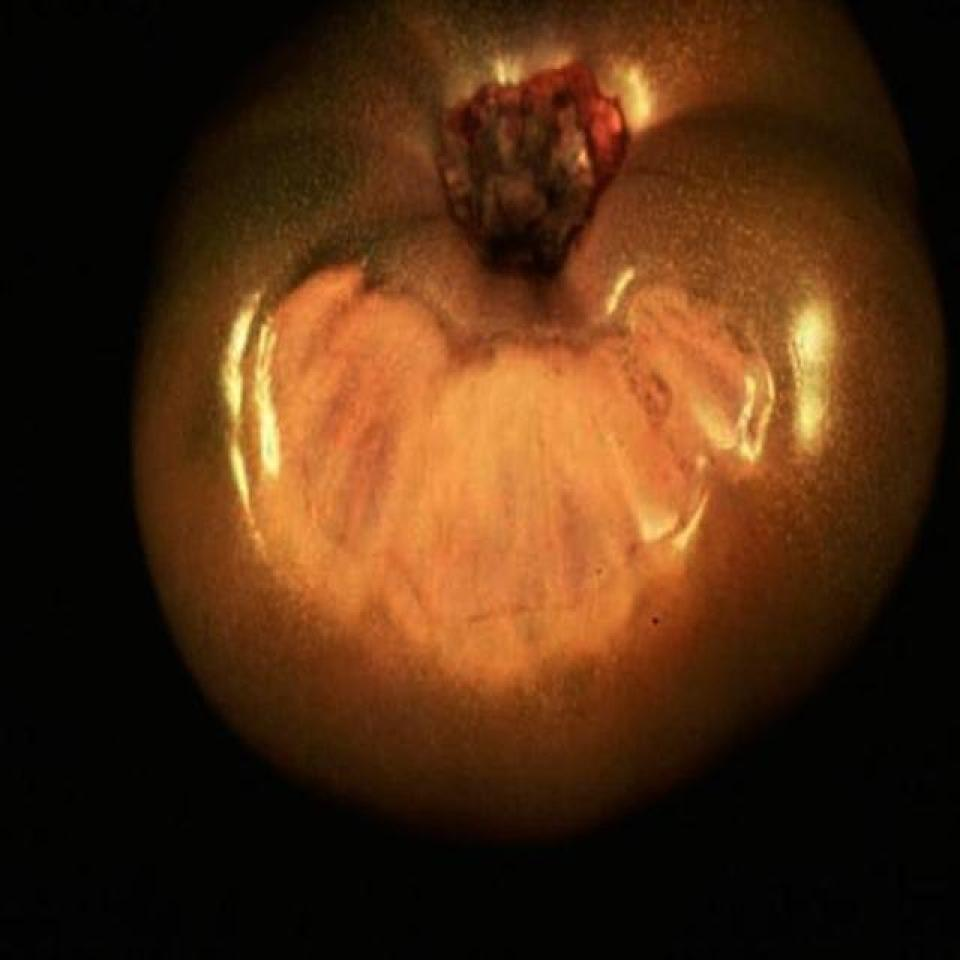Sunscald: (290, 394, 781, 959)
